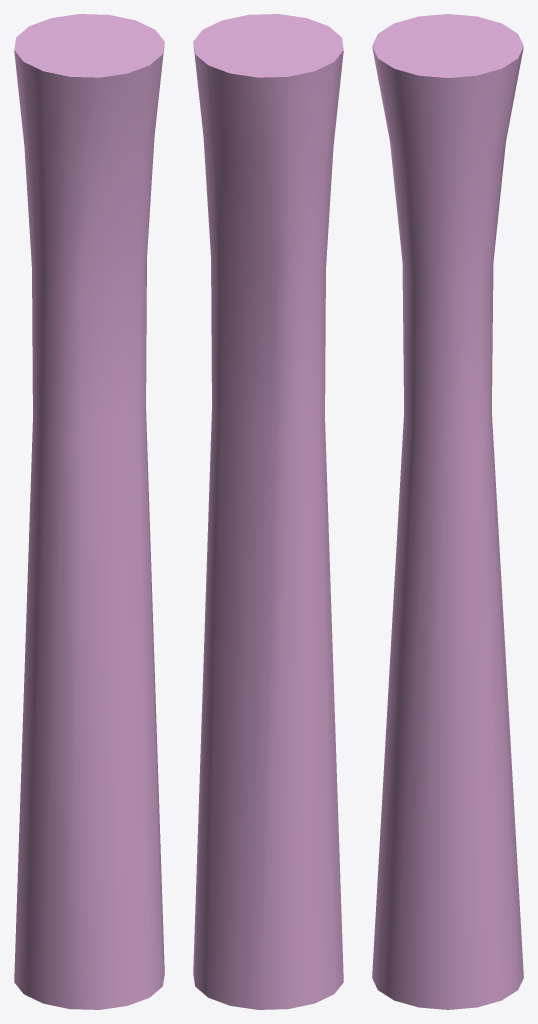
The model's file is Pillar_Wood.fbx.
3 views of the same model, side by side, from view 1: azimuth 30°, elevation 25°; view 2: azimuth 150°, elevation 25°; view 3: azimuth 270°, elevation 25° (orthographic).
Visible parts, largest first — view 1: Pillar_Wood; view 2: Pillar_Wood; view 3: Pillar_Wood.
Part boxes in pixels (x1=…): Pillar_Wood: x1=14, y1=14, x2=164, y2=1009; Pillar_Wood: x1=193, y1=14, x2=343, y2=1009; Pillar_Wood: x1=372, y1=14, x2=523, y2=1009.
Size of the model in its own units: 0.5906 by 4 by 0.5906.
